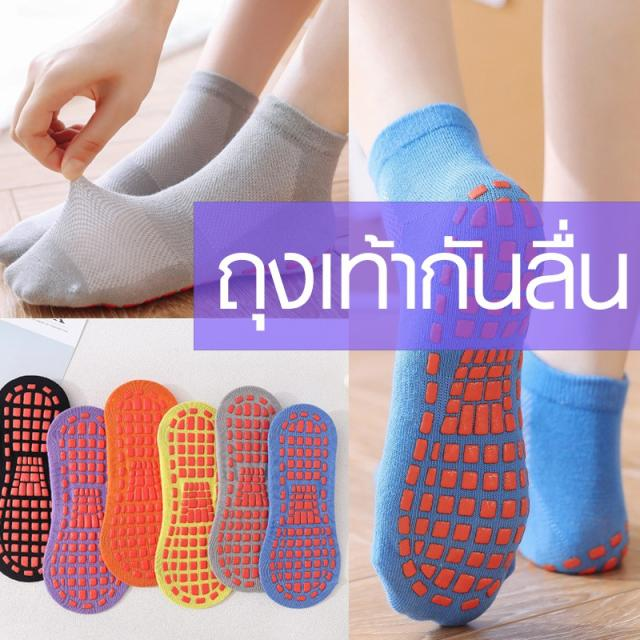sock: (367, 103, 545, 626), (518, 350, 630, 576)
